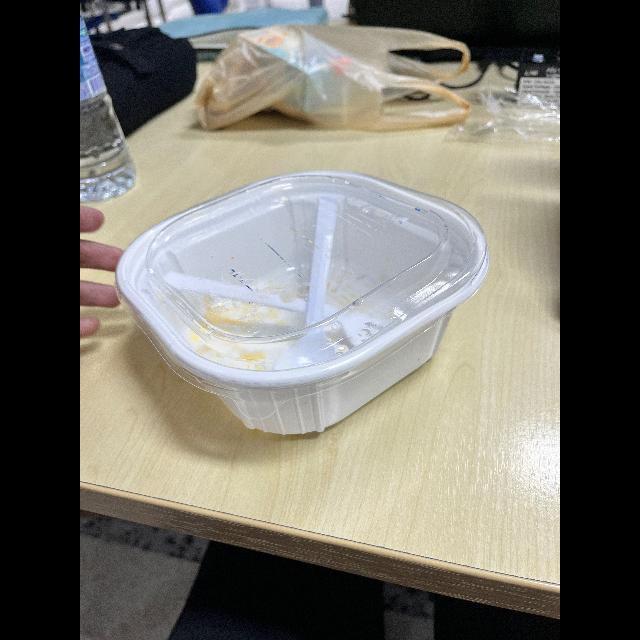plastic_box: (109, 168, 497, 452)
